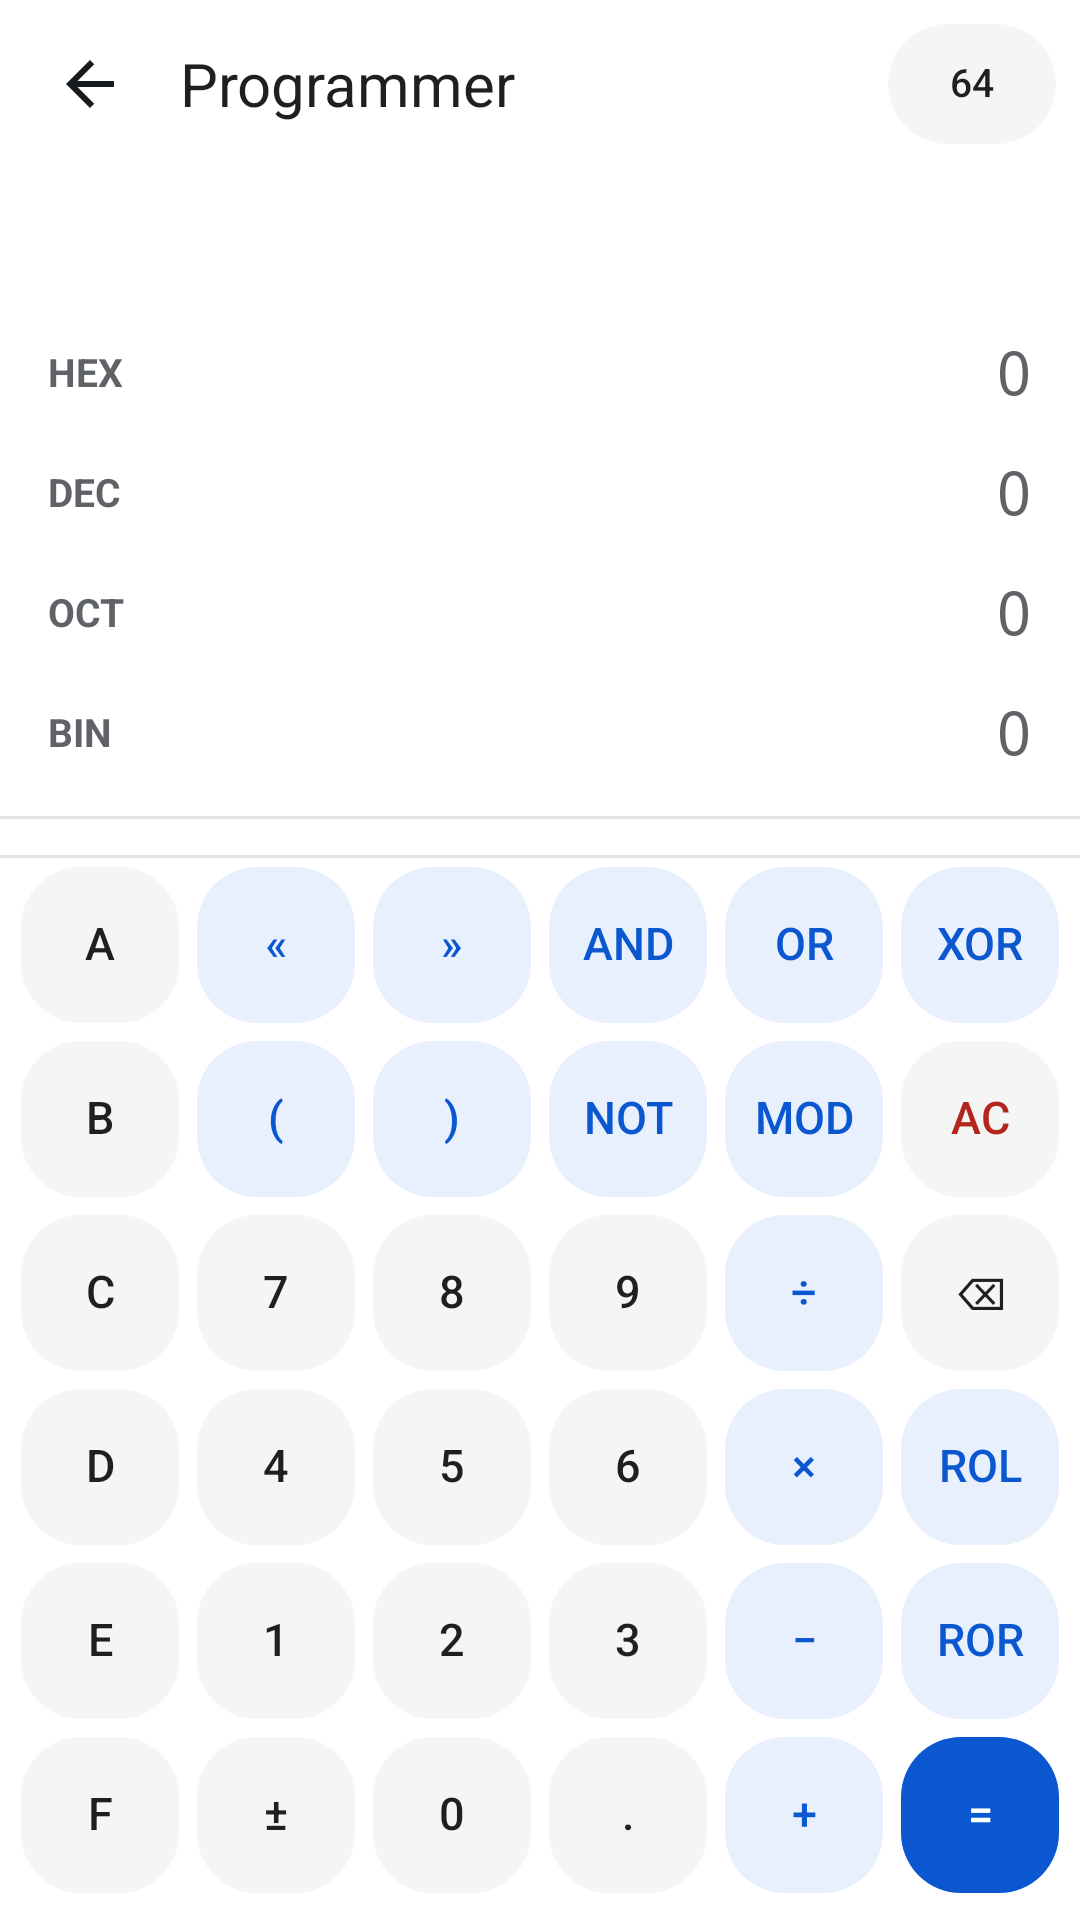

Named icons in this screenshot (1080px x 1920px) and their bounding boxes, bbox=(x1, y1, x2, y2):
Back: bbox=(66, 60, 114, 108)
